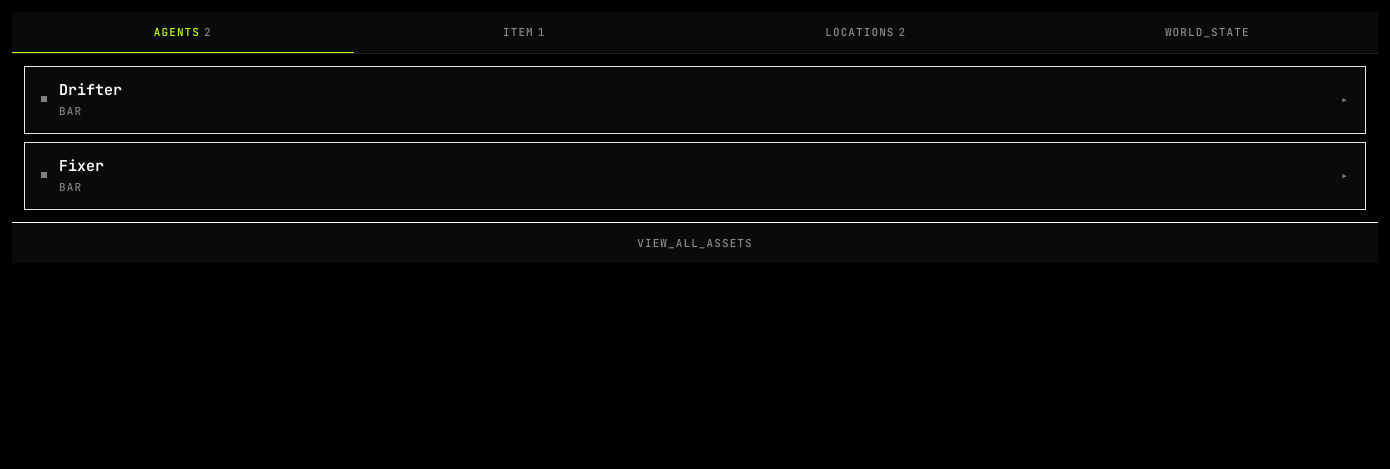
Test: AssetPanel human control › only generates item details on demand, then shows an explicit item edit button
Click the tab "item1": click(524, 32) x1=354 y1=12 x2=695 y2=52
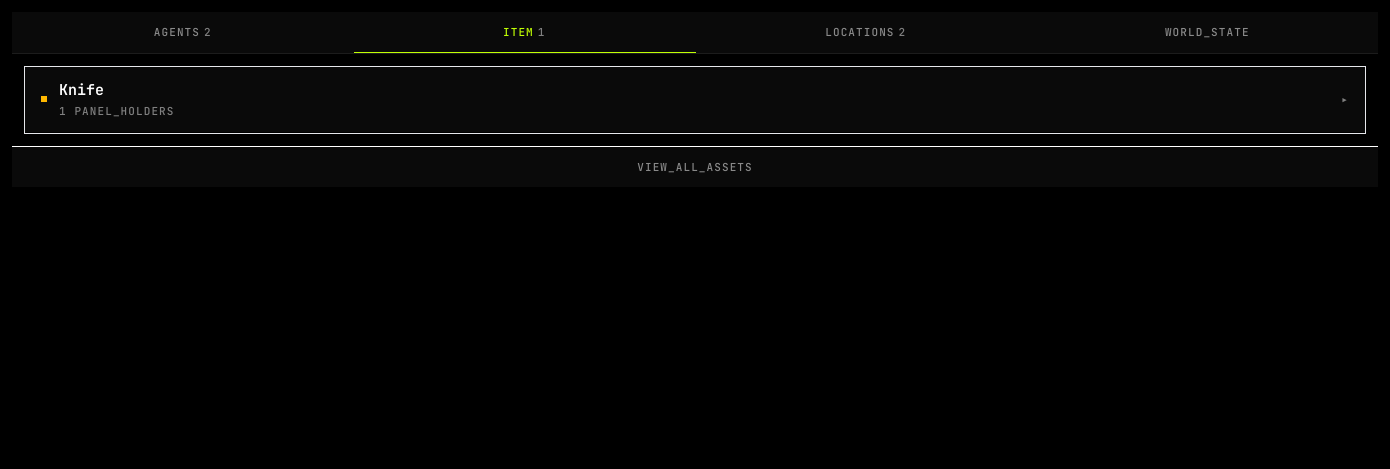
Click the button "Knife 1 panel_holders ▸": click(82, 90) x1=25 y1=66 x2=1365 y2=132
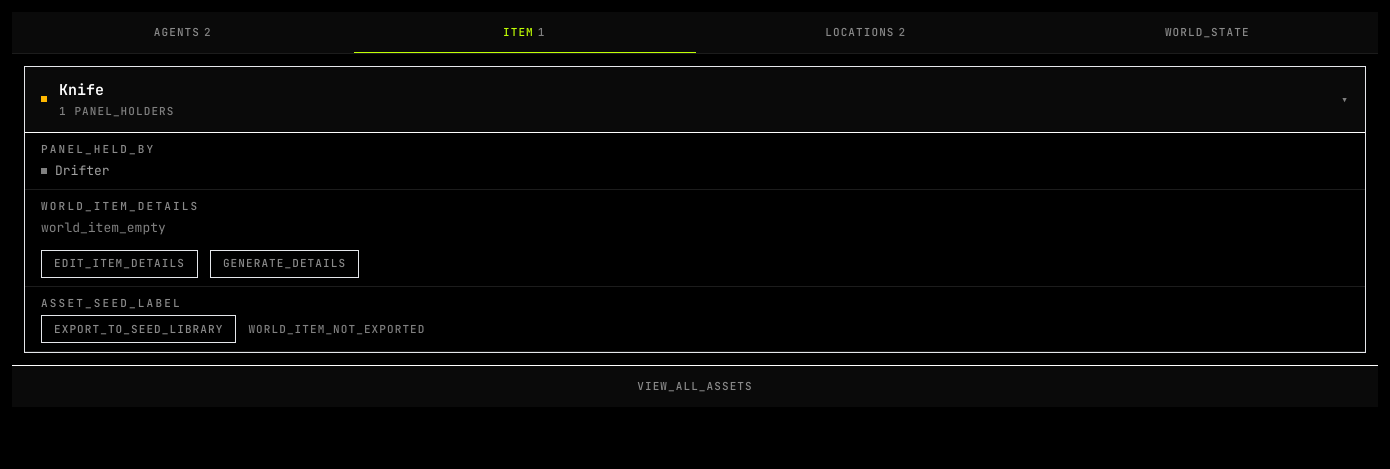
Expected: the text "A worn combat knife." is not shown
Expected: the text "world_item_empty" is shown, x1=41 y1=219 x2=166 y2=236
Expected: the button "export_to_seed_library" is shown, x1=41 y1=315 x2=236 y2=343
Click the button "generate_details": click(284, 264) x1=210 y1=250 x2=359 y2=278
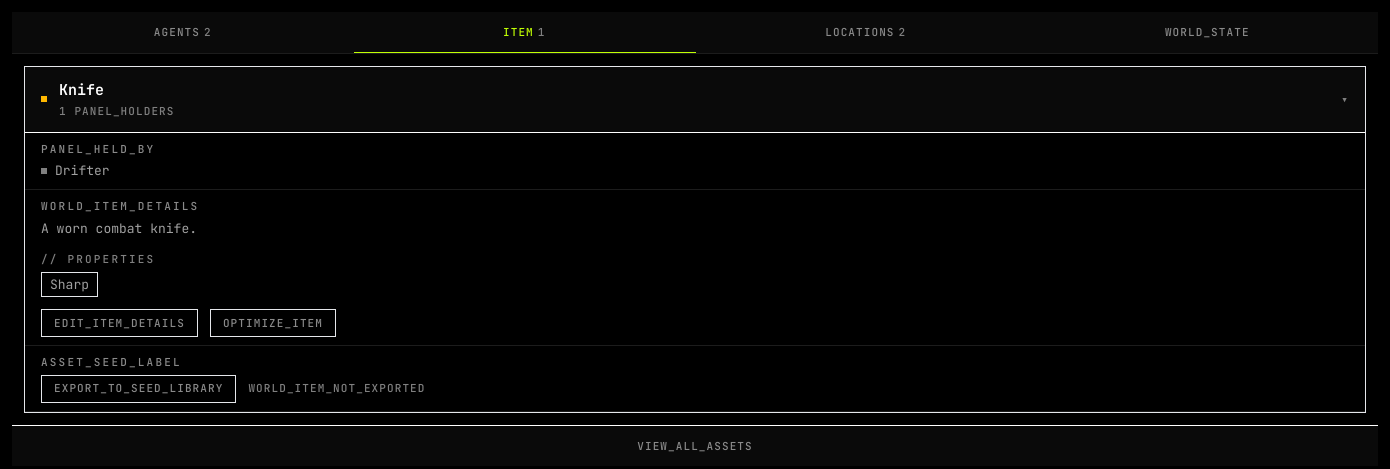
Expected: the button "edit_item_details" is shown, x1=41 y1=309 x2=198 y2=337
Expected: the text "A worn combat knife." is shown, x1=41 y1=220 x2=197 y2=237
